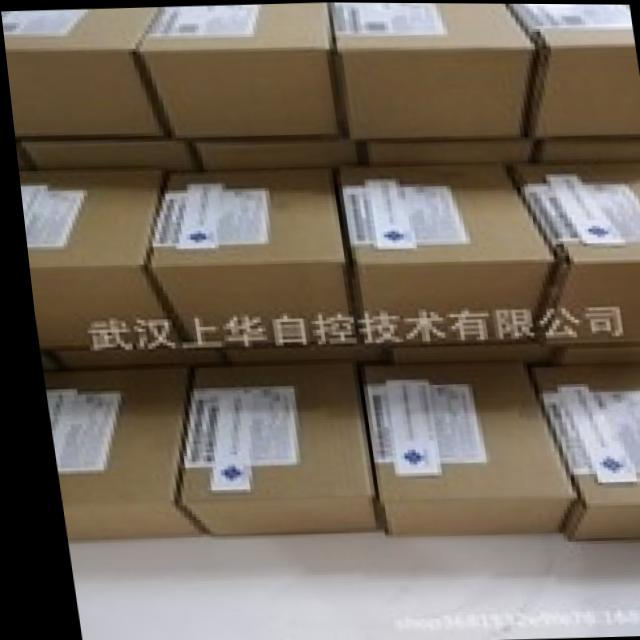box: (331, 166, 548, 343), (356, 361, 566, 534), (145, 168, 348, 344), (166, 363, 364, 536), (330, 2, 533, 141), (15, 170, 170, 352), (138, 2, 339, 135), (38, 371, 194, 541), (501, 159, 640, 346), (1, 6, 164, 136), (522, 363, 640, 540), (505, 3, 640, 136), (187, 132, 354, 172), (13, 136, 192, 171), (47, 341, 216, 374), (363, 136, 529, 169), (213, 339, 371, 369), (383, 341, 537, 368), (537, 132, 640, 162), (549, 340, 640, 363)
